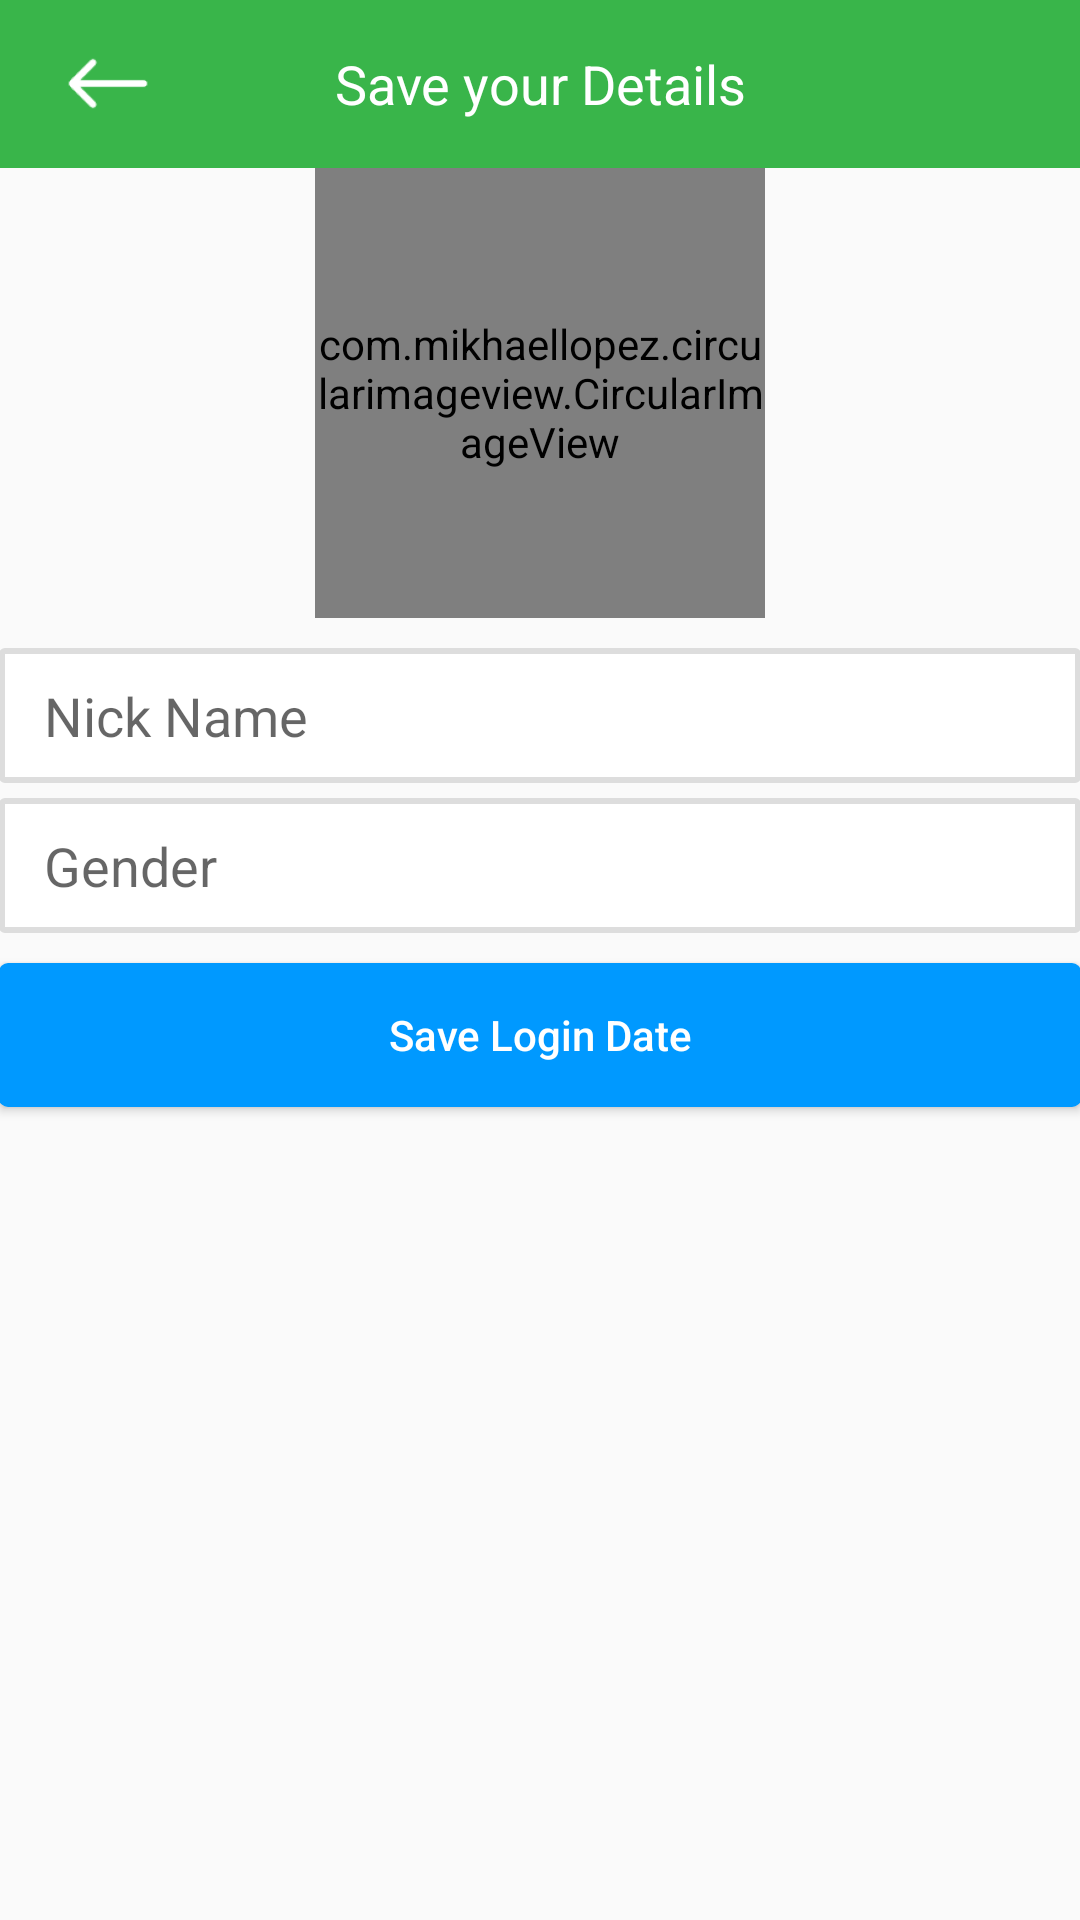

Locate icon controls on the screen. Image size 1080x1920, boxes as (x1, y1, x2, y2).
back arrow: (68, 59, 148, 108)
